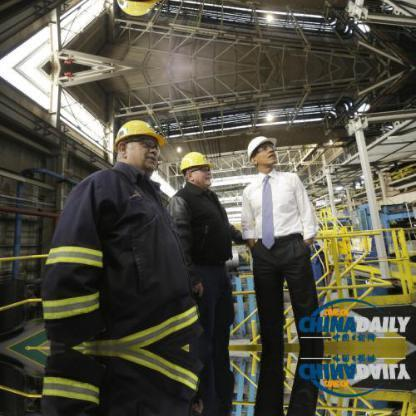helmet: (110, 114, 163, 151), (175, 148, 217, 175), (245, 131, 277, 164)
